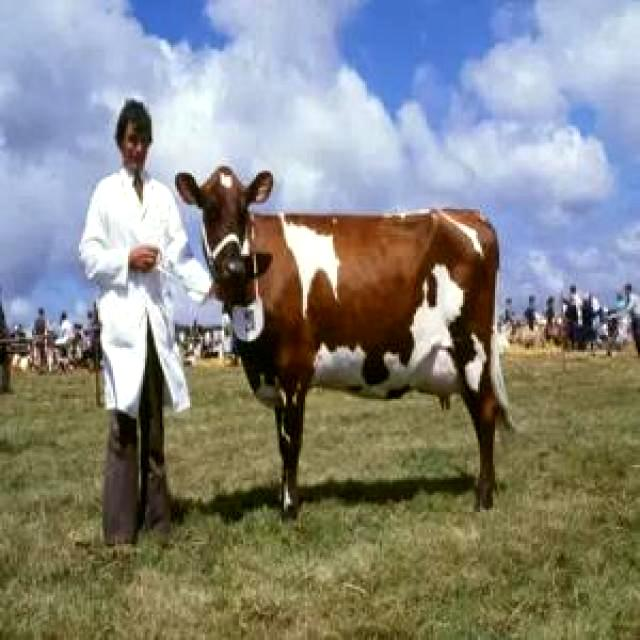COW: (176, 166, 509, 519)
